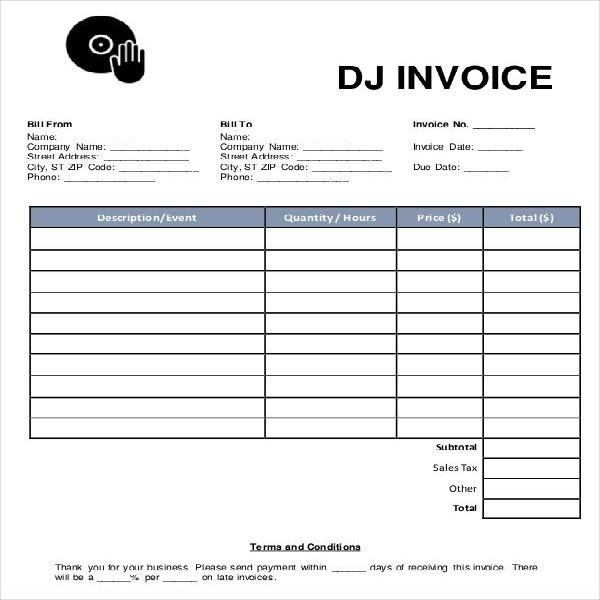test: (66, 16, 143, 82)
